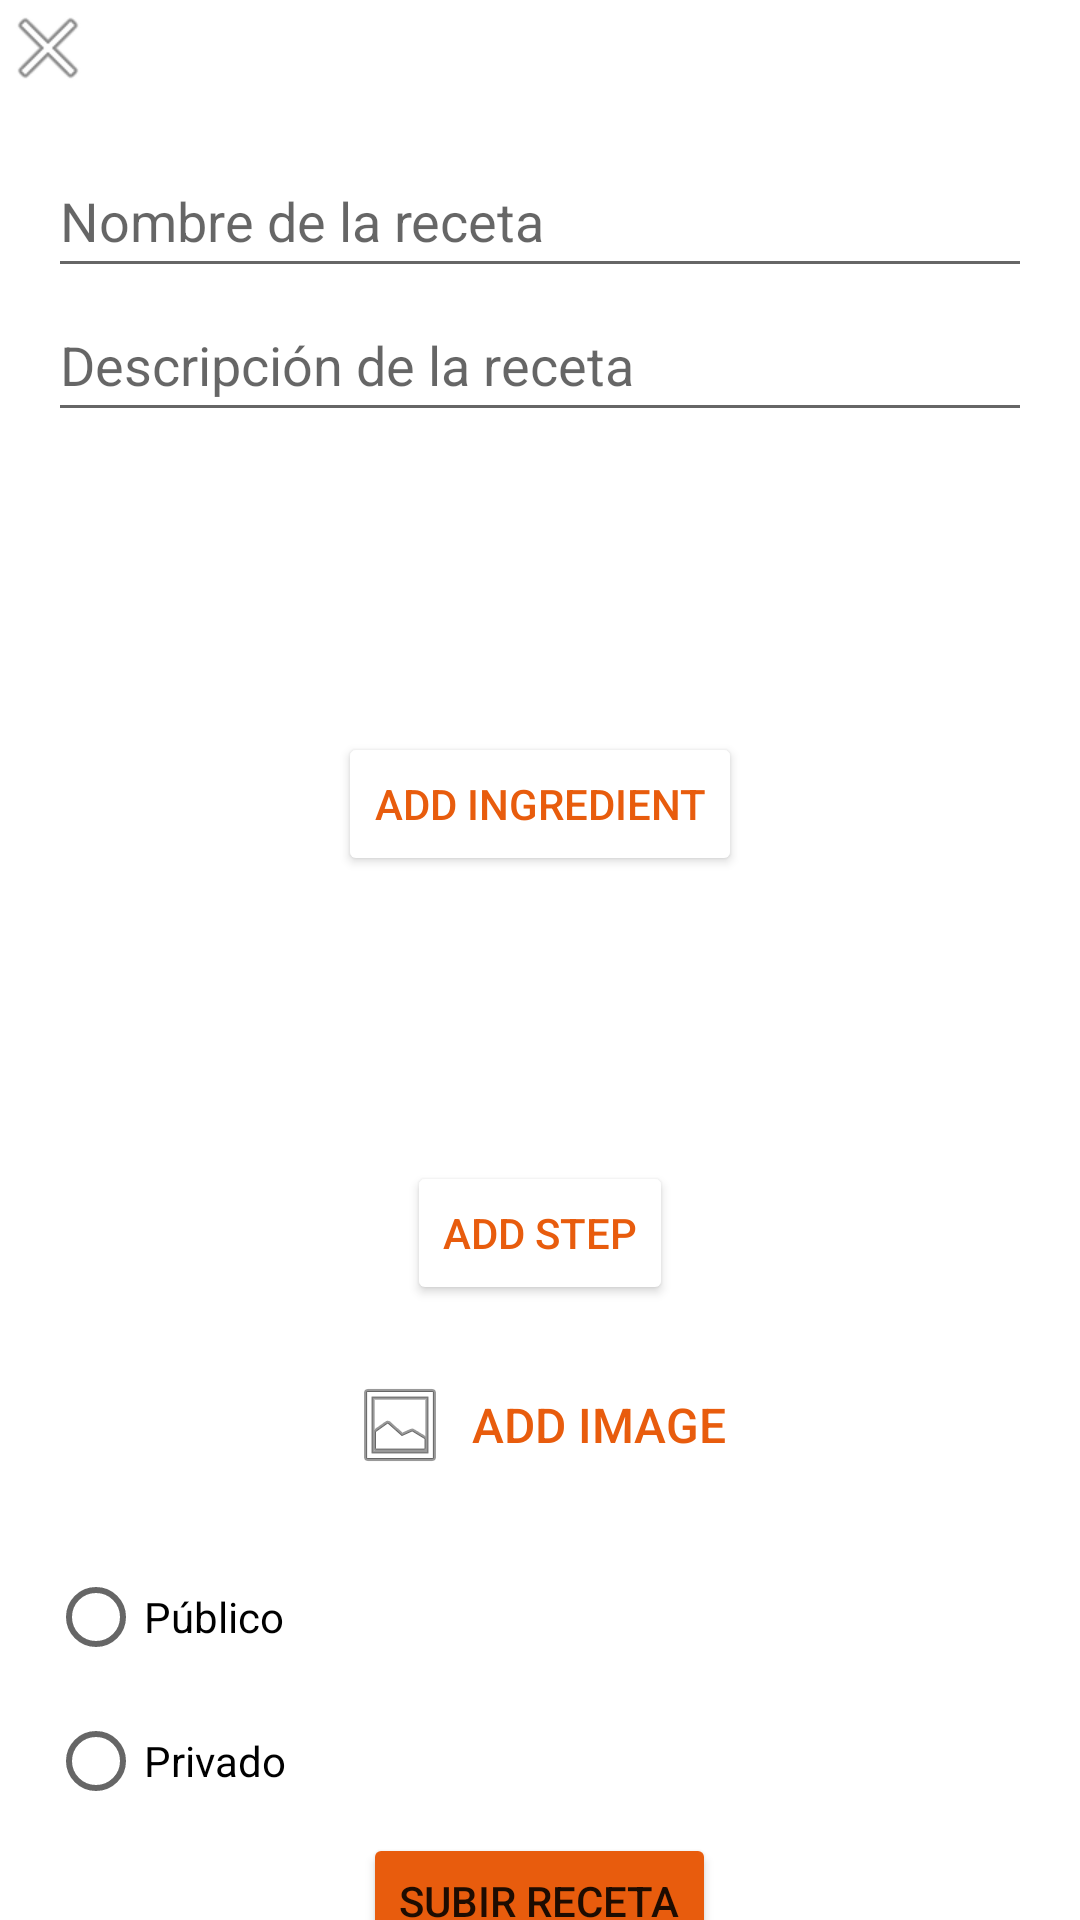

Named icons in this screenshot (1080 x 1920) and their centers, (x=x, y=y):
close clear cancel: (x=48, y=48)
